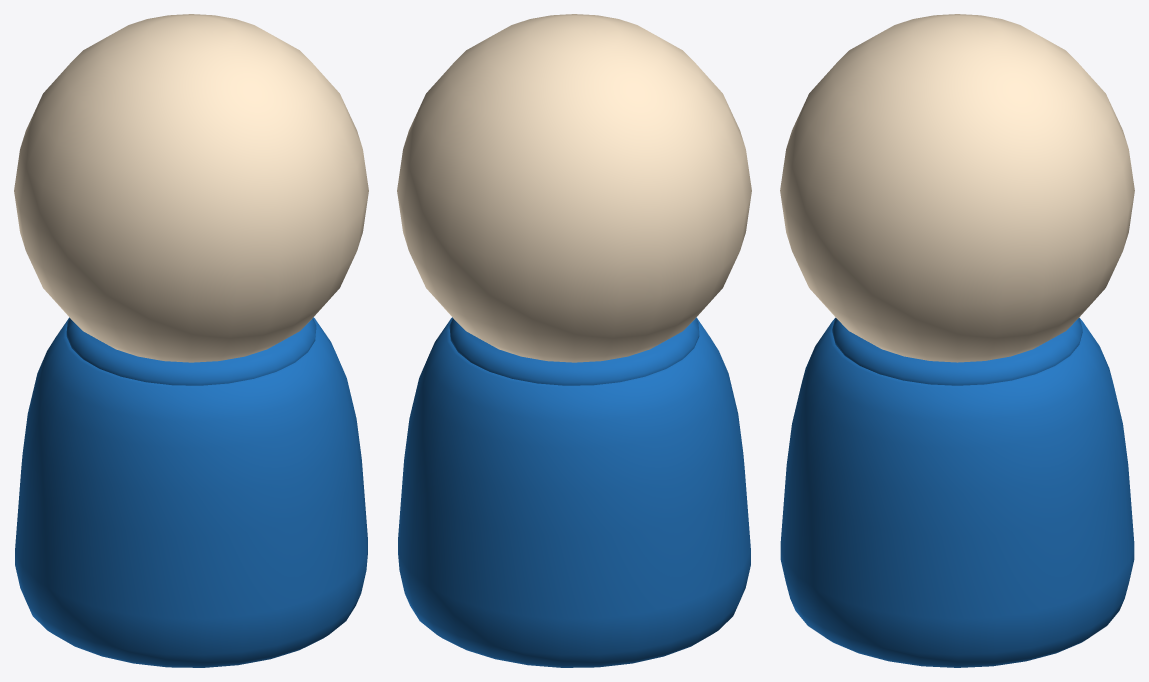
Rendered from karakter.fbx.
The picture shows the model from 3 angles, left to right: view 1: azimuth 30°, elevation 25°; view 2: azimuth 150°, elevation 25°; view 3: azimuth 270°, elevation 25°; orthographic projection.
Parts seen in each view (by area): view 1: karakter; view 2: karakter; view 3: karakter.
Part boxes in pixels (x1=…): karakter: x1=14, y1=14, x2=368, y2=667; karakter: x1=397, y1=14, x2=751, y2=667; karakter: x1=780, y1=14, x2=1134, y2=667.
Bounding box in the file's own units: 0.6147 × 1.1 × 0.6147.
